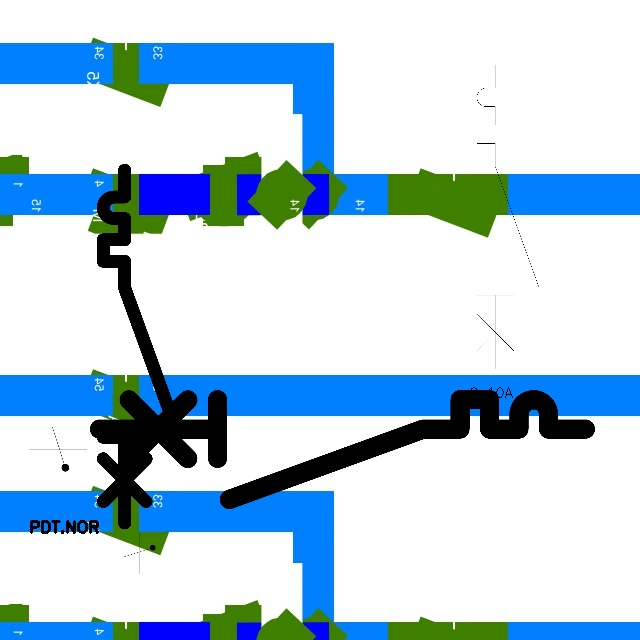interruptor_termomagnetico: (86, 387, 597, 512), (94, 161, 185, 532), (469, 57, 547, 377)
